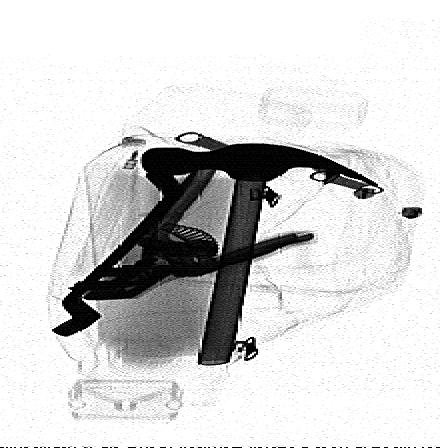Hammer: (137, 144, 388, 365)
Pliers: (74, 156, 318, 303)
Wrench: (52, 150, 191, 335)
